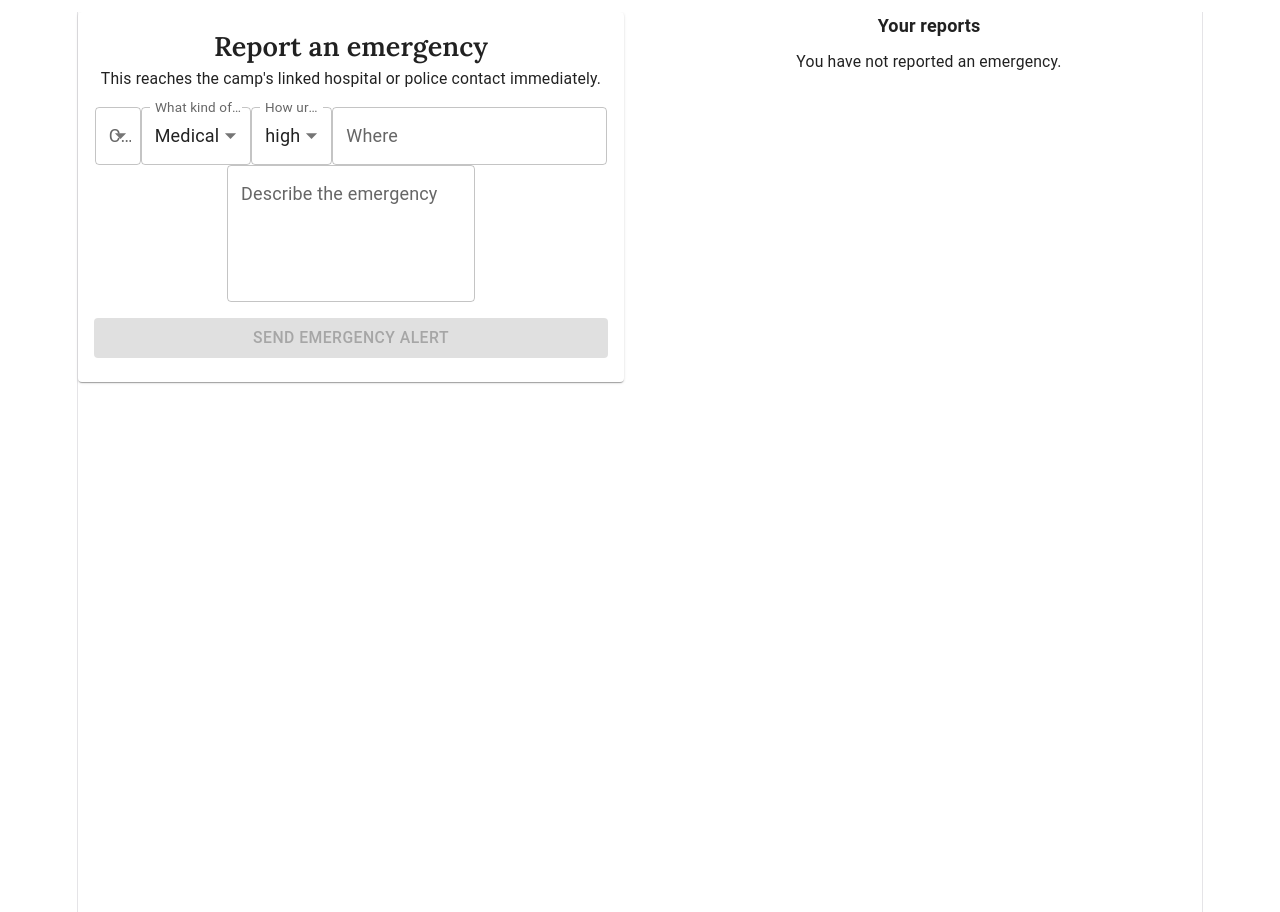
Scenario: RaiseSosPage › will not send until the camp, location, and description are filled in
Expected: the button "Send emergency alert" is disabled, [94,318,608,358]
Step 1. Click the dropdown named "camp" → [118, 136], box [95,106,141,165]
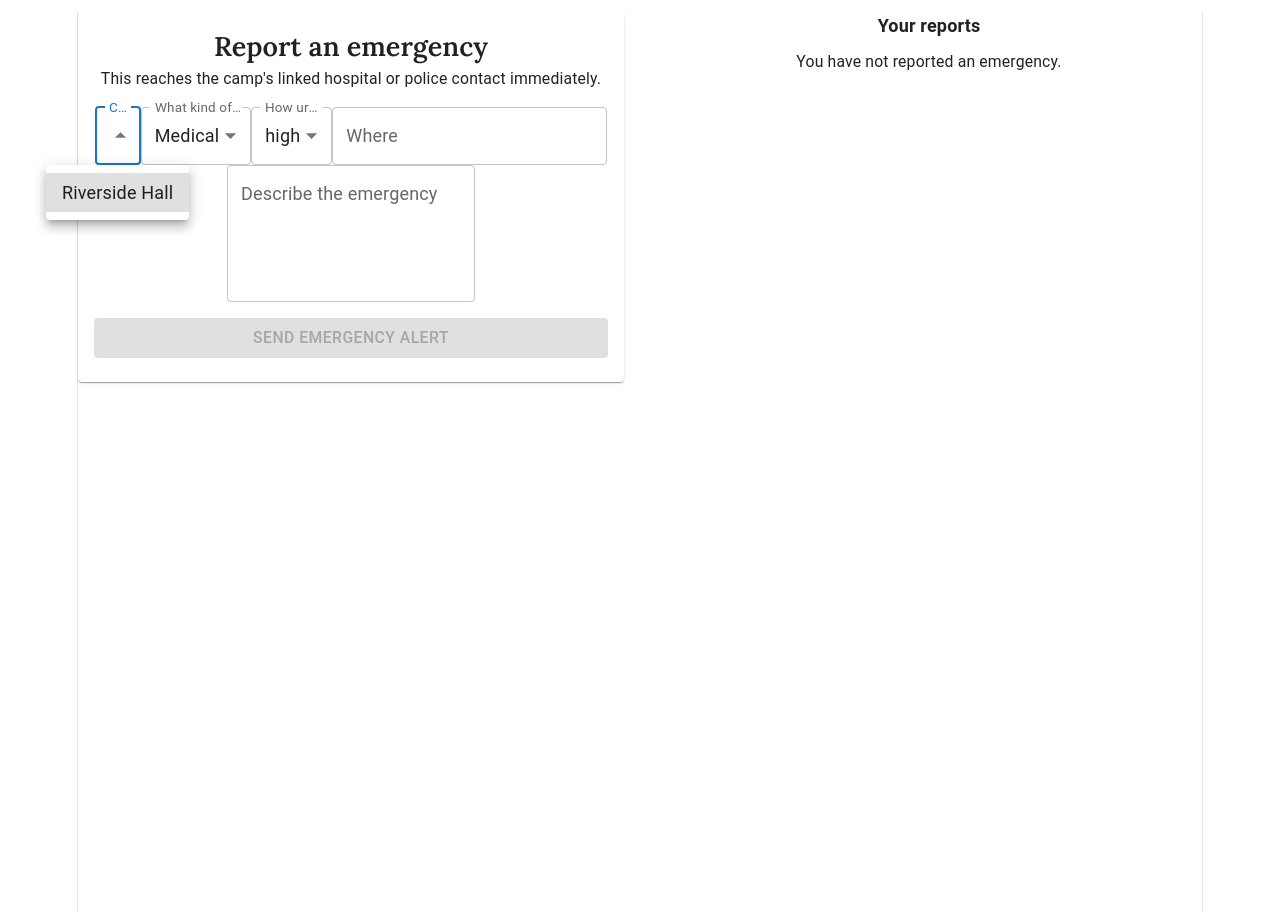
Step 2. Click the option "Riverside Hall" → [118, 192], box [46,173,189,212]
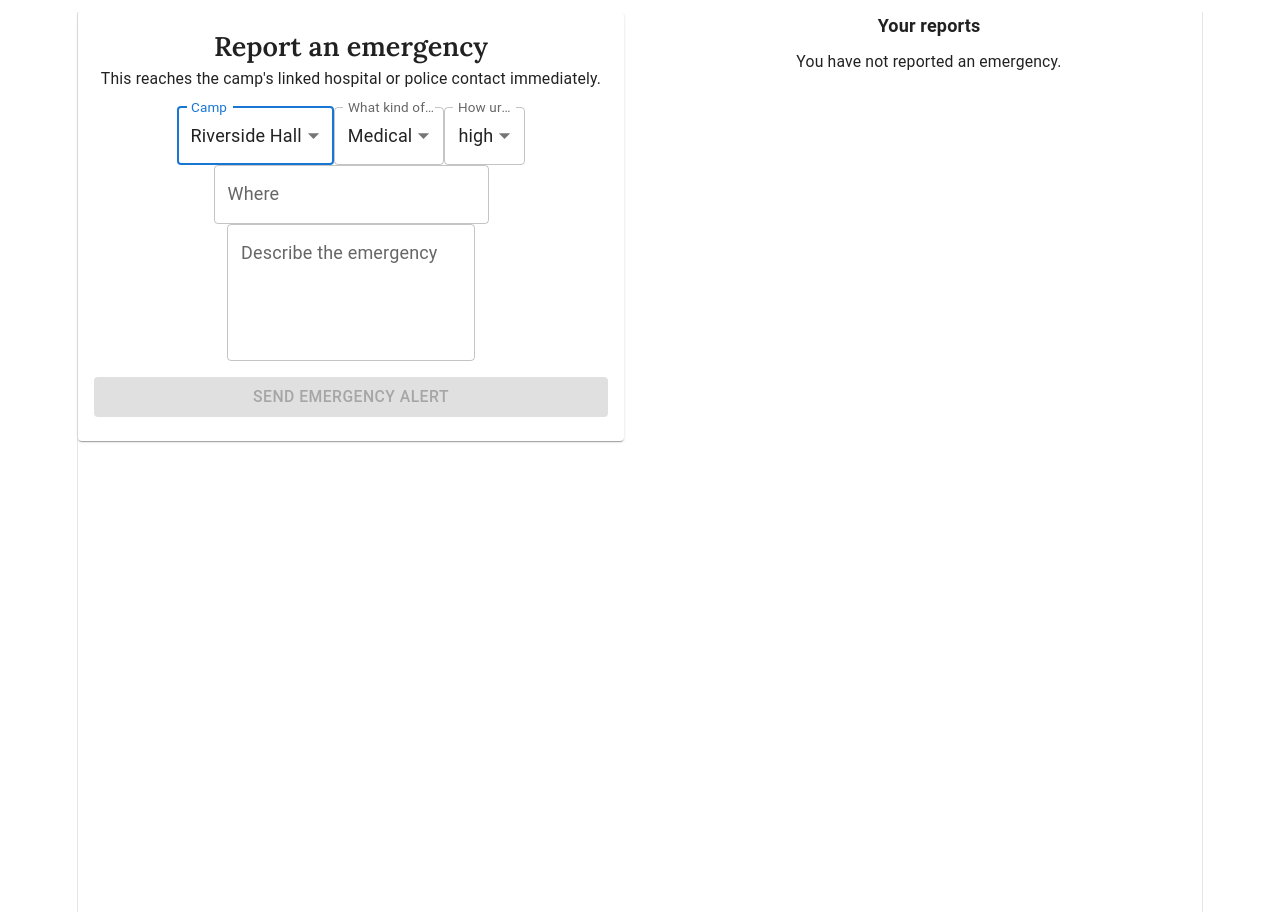
Step 3. Type "Tent 4" into the field labelled "Where" → [351, 195], box [214,165,488,224]
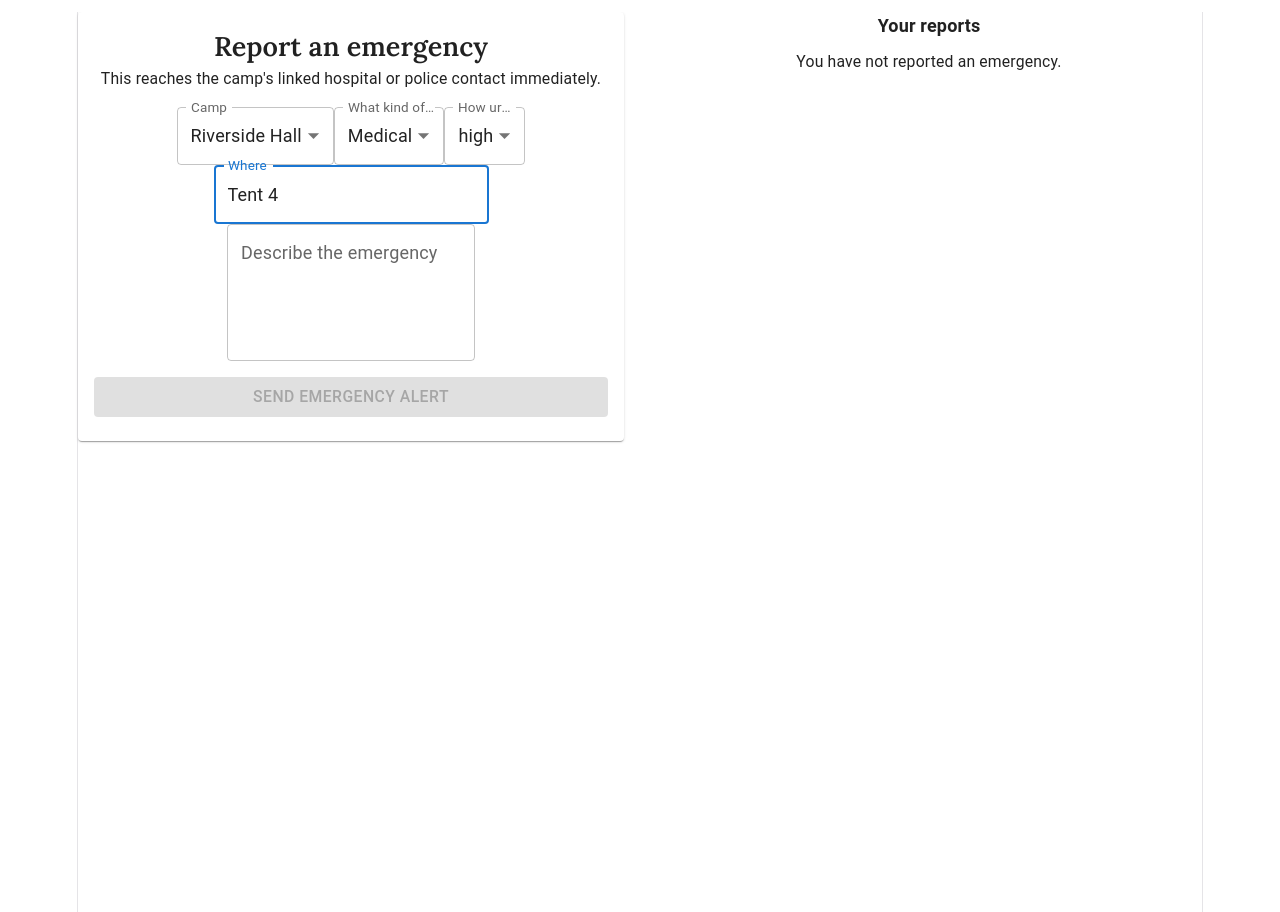
Step 4. Type "Chest pains, needs help now." into the text box labelled "Describe the emergency" → [351, 293], box [241,241,461,345]
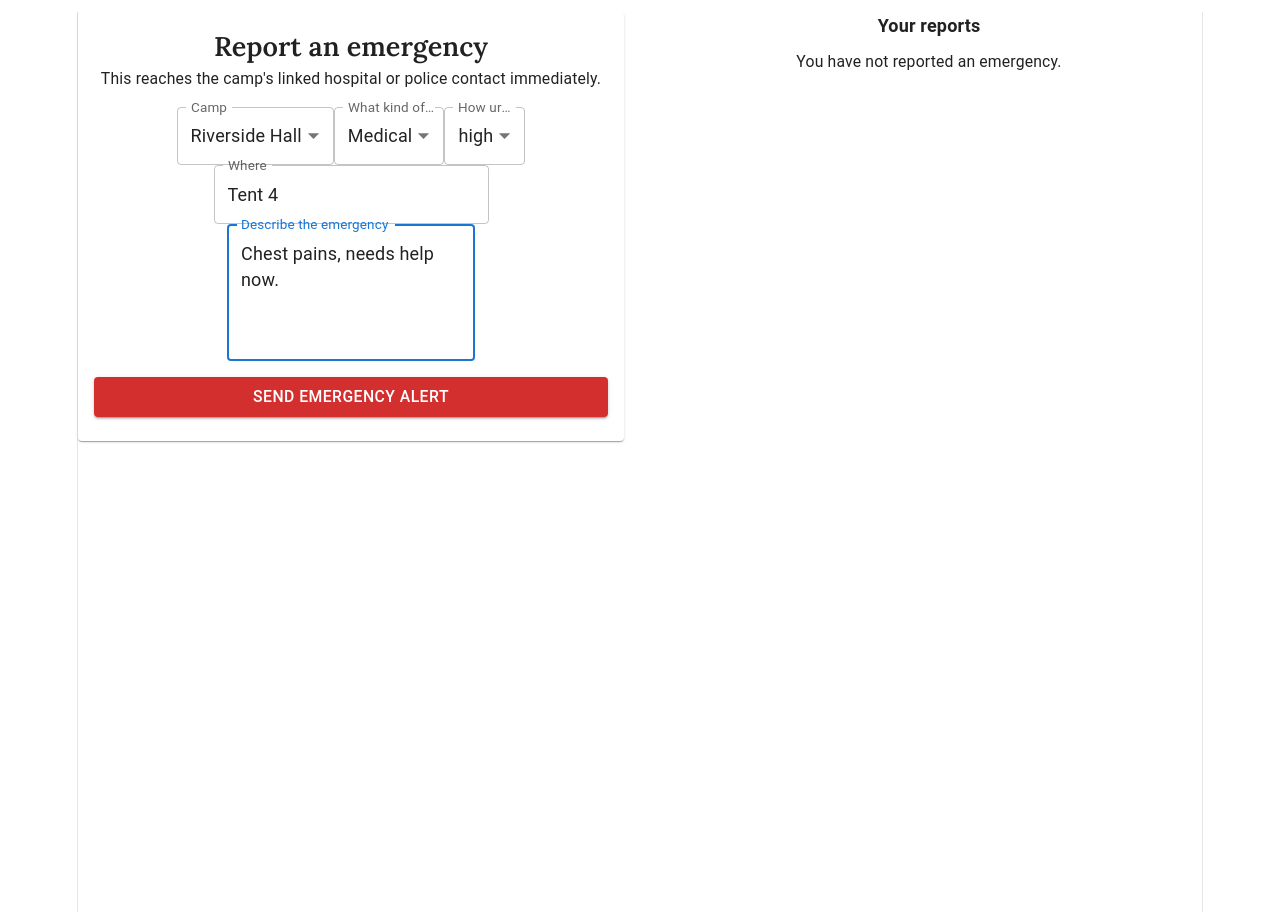
Result: the button "Send emergency alert" is enabled at [94,377,608,417]
